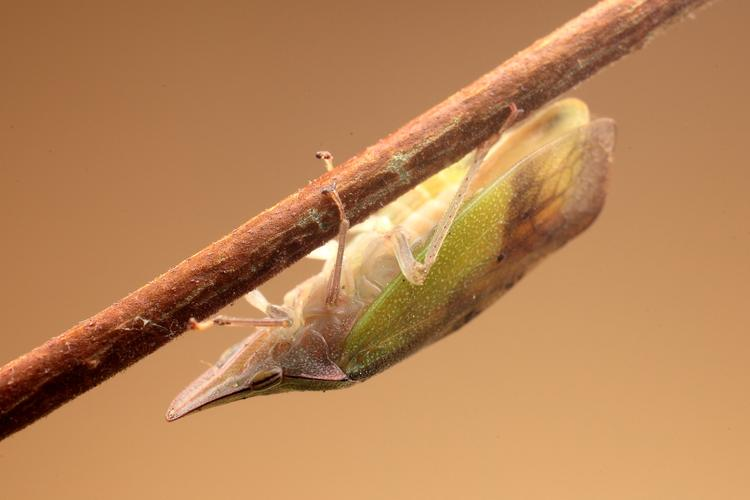Cicadellidae: (166, 98, 615, 421)
